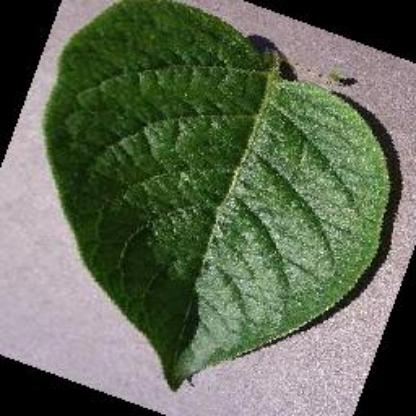Healthy-plant: (38, 0, 394, 386)
